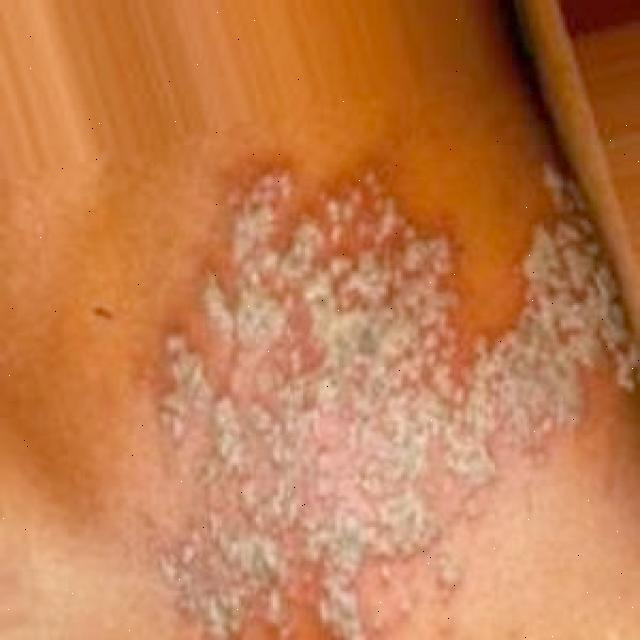Shingles: (160, 148, 640, 640)
